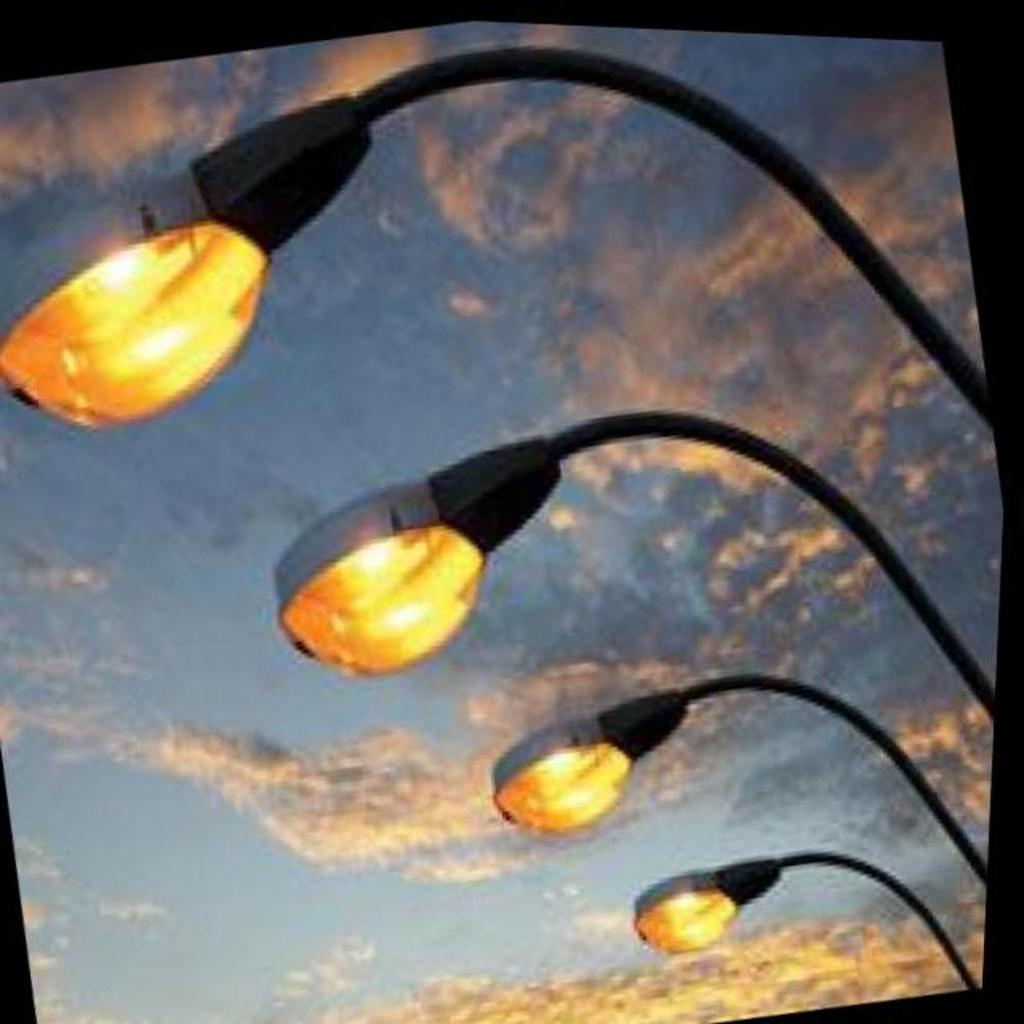shelf: (0, 0, 1003, 552), (217, 327, 1013, 780), (356, 601, 942, 902), (560, 804, 951, 1024)
